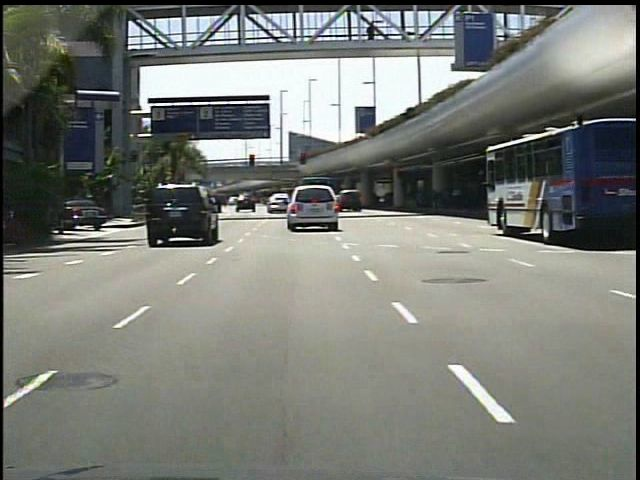person: (355, 23, 373, 47)
